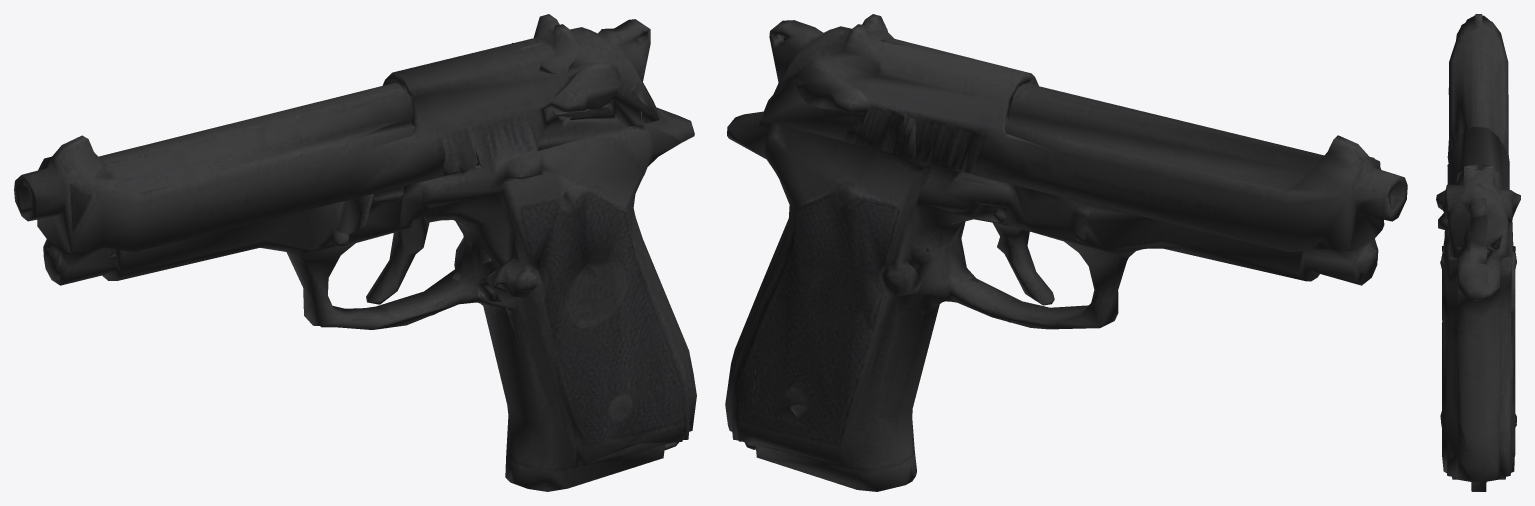
File: wpn_pistol.glb
3 renders of one model, left to right at view 1: azimuth 30°, elevation 25°; view 2: azimuth 150°, elevation 25°; view 3: azimuth 270°, elevation 25°, orthographic. The views are drawn at different scales.
Visible parts, largest first — view 1: Mesh_0; view 2: Mesh_0; view 3: Mesh_0.
Part boxes in pixels (x1,y1,x2,y2): Mesh_0: (14,14,696,491); Mesh_0: (725,14,1407,491); Mesh_0: (1436,14,1520,491).
Size of the model in its own units: 1.9 by 1.23 by 0.3241.
1 material, 1 textured.
